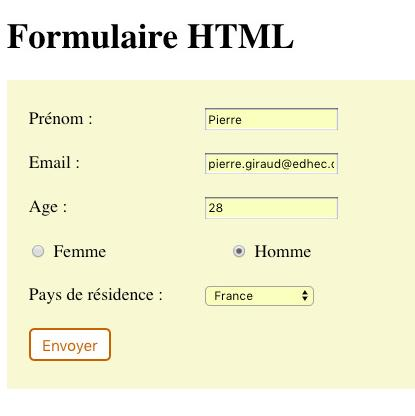button: (27, 328, 114, 363)
field: (202, 195, 340, 221), (203, 107, 343, 131), (204, 152, 342, 176), (203, 285, 317, 306)
field_with_label: (30, 194, 343, 223), (29, 106, 346, 132), (29, 151, 345, 177), (28, 283, 319, 307)
radio: (230, 243, 245, 259), (31, 243, 46, 258)
radio_with_label: (227, 240, 311, 261), (28, 240, 107, 260)
